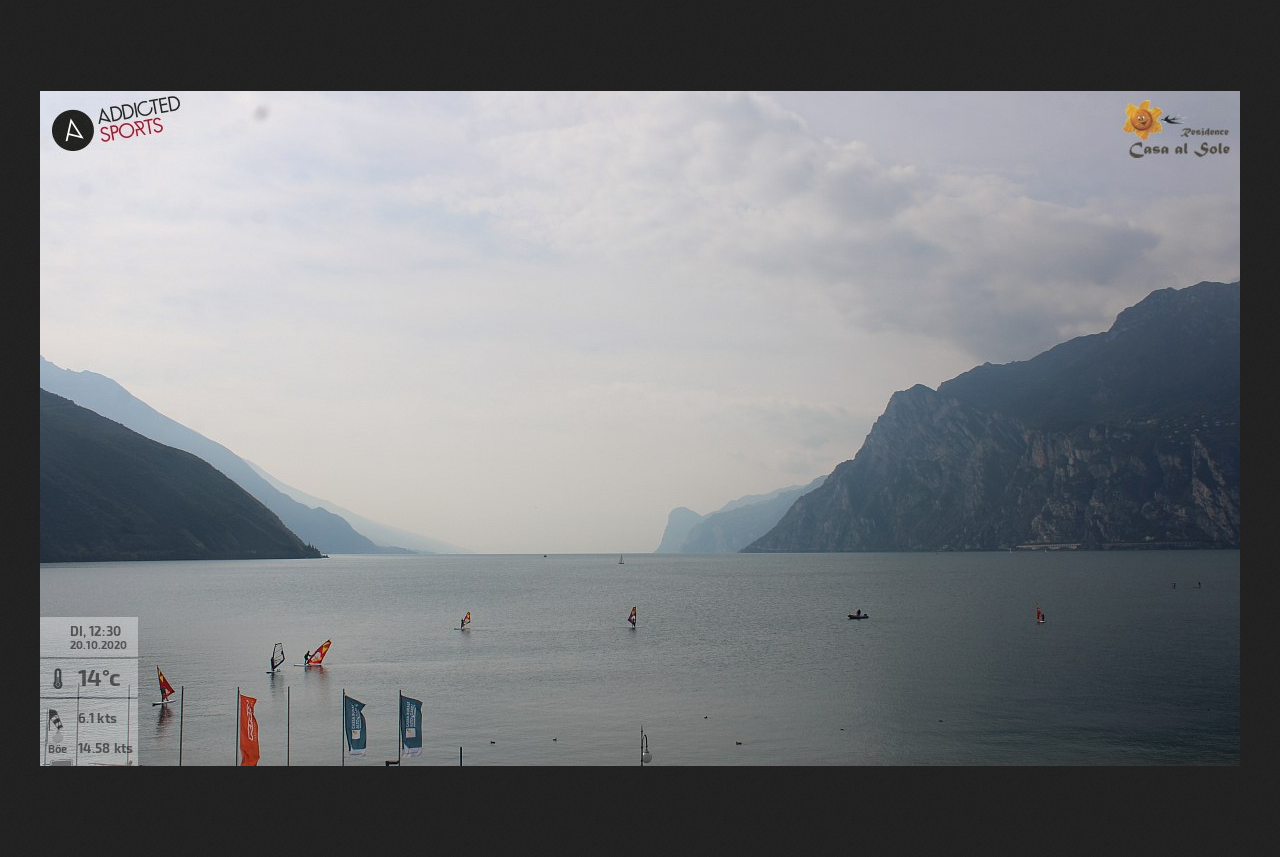yes: (399, 696, 424, 757), (344, 694, 367, 757)
